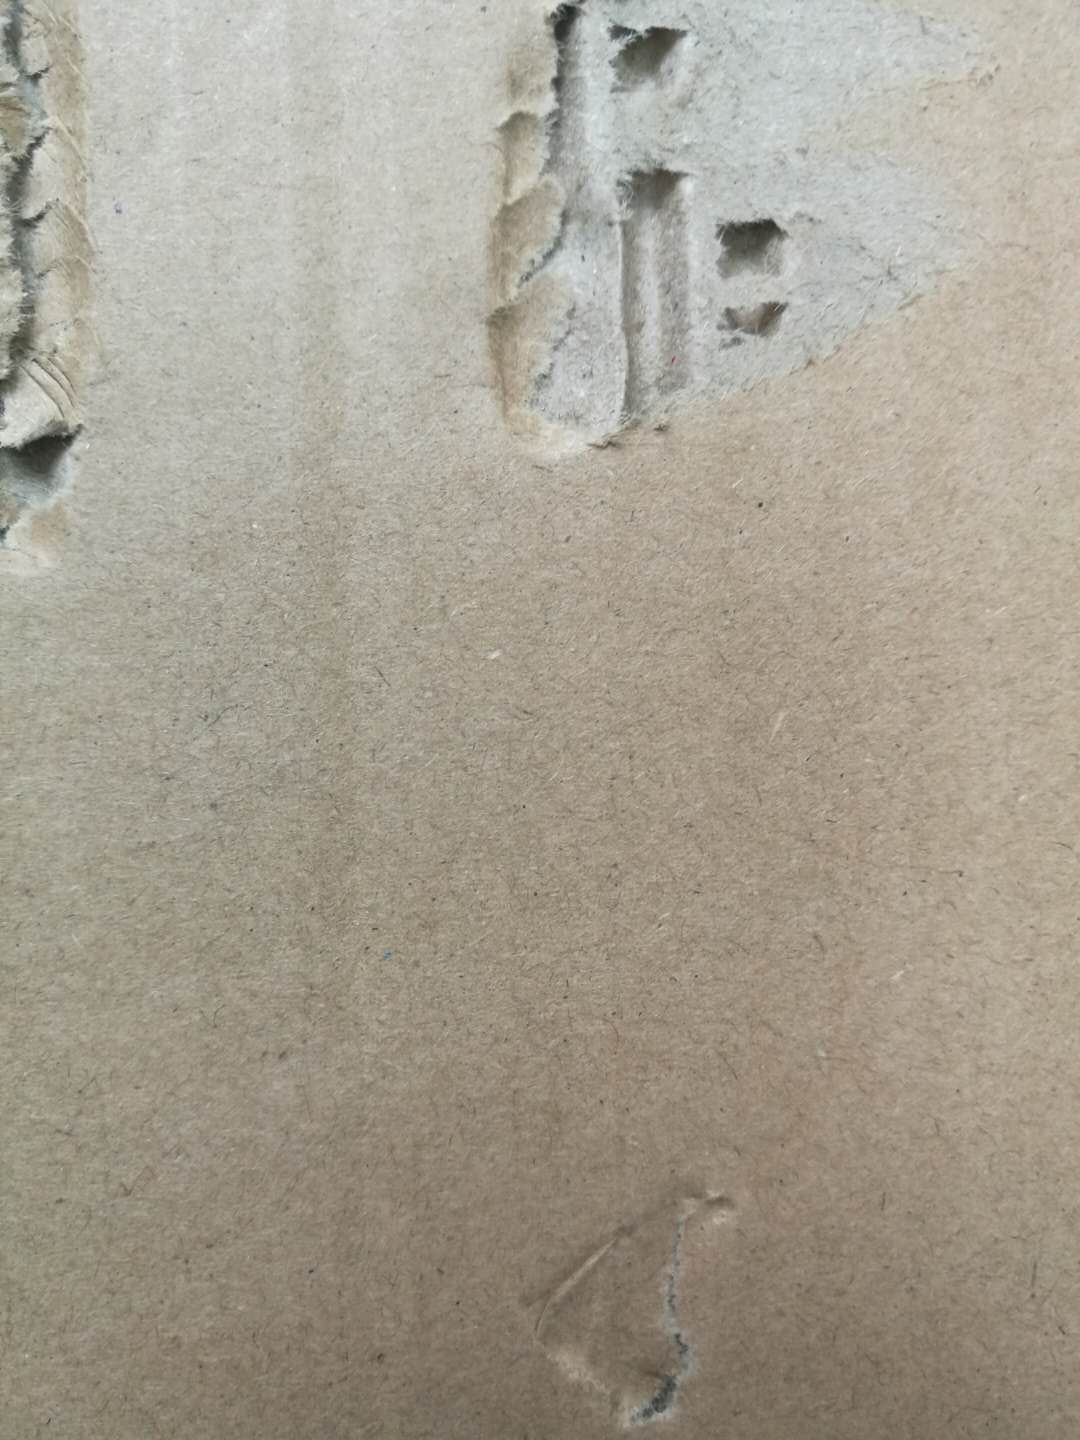defect: (431, 2, 1029, 493), (265, 2, 399, 1221), (2, 1, 134, 615), (503, 1152, 763, 1435)
